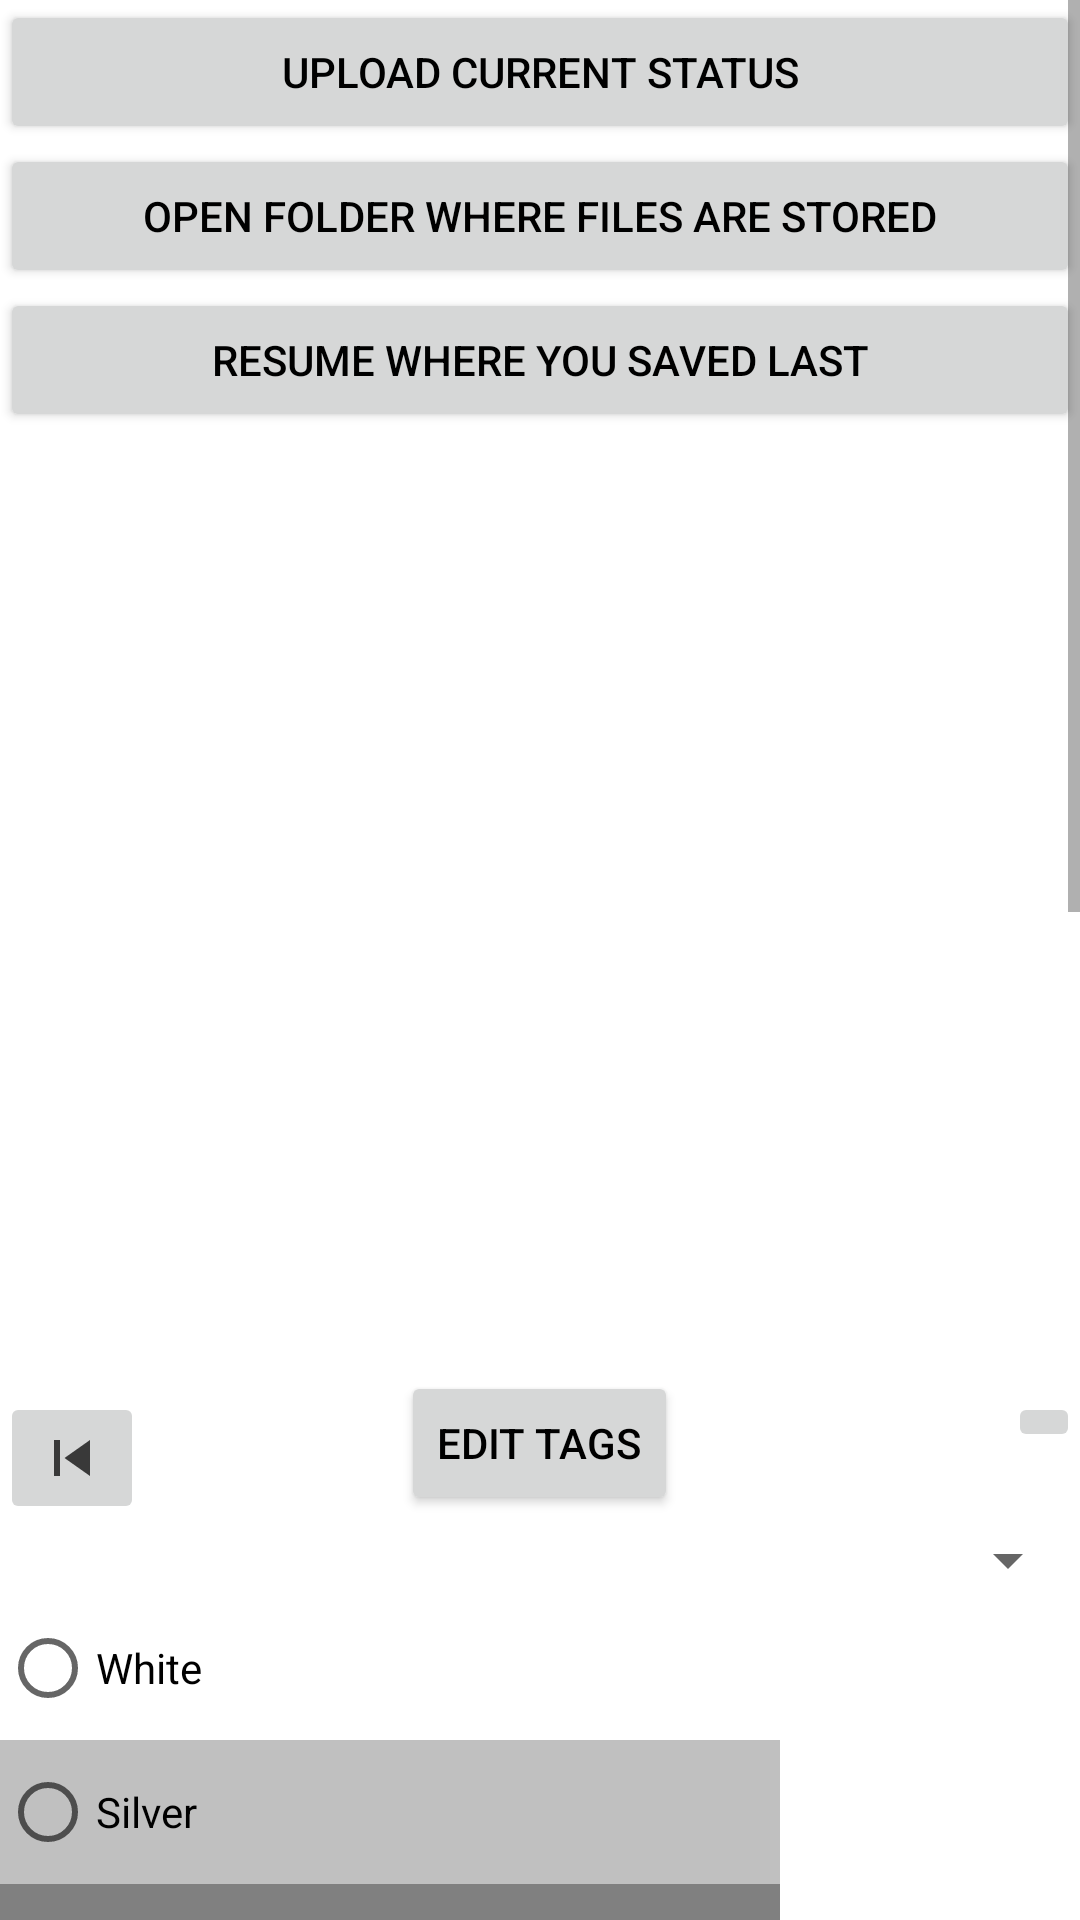

Named icons in this screenshot (1080×1920) and their bounding boxes, (x1, y1, x2, y2):
skip previous: (12, 1410, 132, 1506)
